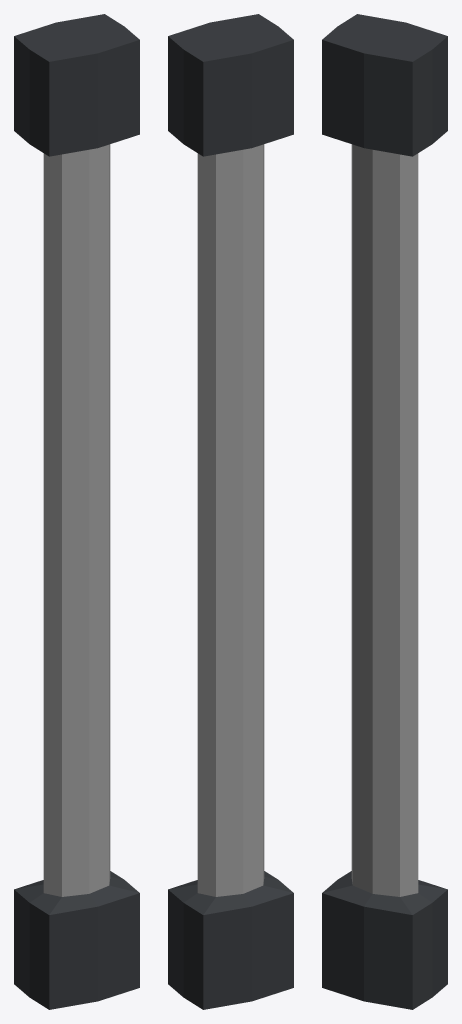
Rendered from SM_Prop_NeonLight_01.fbx.
The picture shows the model from 3 angles, left to right: view 1: azimuth 30°, elevation 25°; view 2: azimuth 210°, elevation 25°; view 3: azimuth 330°, elevation 25°; orthographic projection.
Visible parts, largest first — view 1: SM_Prop_NeonLight_01; view 2: SM_Prop_NeonLight_01; view 3: SM_Prop_NeonLight_01.
Part boxes in pixels (box(x1,y1,x2,y2)): SM_Prop_NeonLight_01: box(14, 14, 139, 1009); SM_Prop_NeonLight_01: box(168, 14, 293, 1009); SM_Prop_NeonLight_01: box(322, 14, 447, 1009).
Bounding box in the file's own units: 26.86 × 257 × 20.67.
